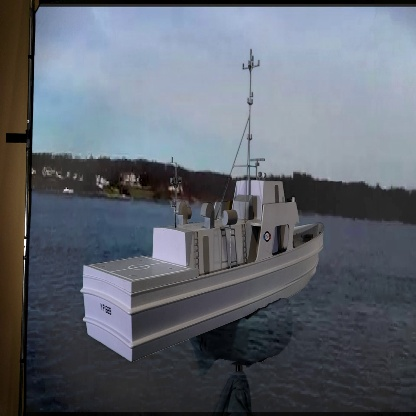YP689: (79, 50, 325, 364)
